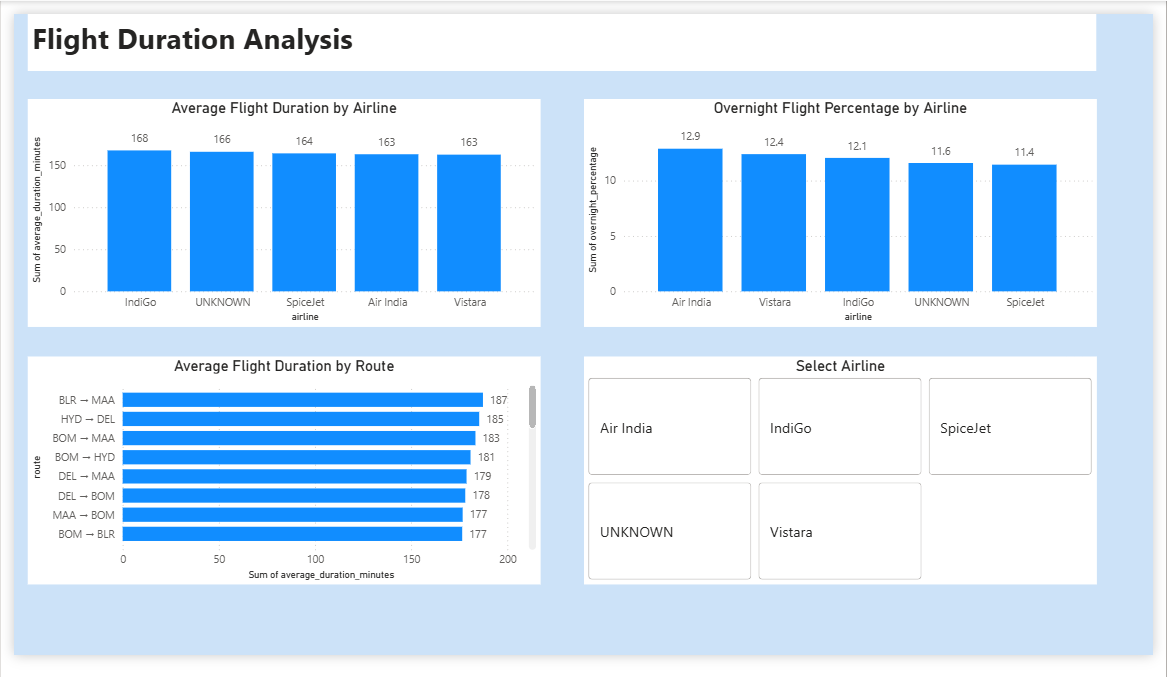

The dashboard page shown, as its layout file describes it:
{"tool":"powerbi","page":{"name":"Duration Analysis","canvas":[1280,720],"ordinal":1},"visuals":[{"type":"clusteredColumnChart","title":"Average Flight Duration by Airline","fields":{"Category":["ASG_airline_performance.airline"],"Y":["Sum(ASG_airline_performance.average_duration_minutes)"]},"box":[16,96,576,256],"z":0},{"type":"clusteredBarChart","title":"Average Flight Duration by Route","fields":{"Category":["ASG_route_performance.route"],"Y":["Sum(ASG_route_performance.average_duration_minutes)"]},"box":[16,384,576,256],"z":1000},{"type":"clusteredColumnChart","title":"Overnight Flight Percentage by Airline","fields":{"Category":["ASG_airline_performance.airline"],"Y":["Sum(ASG_airline_performance.overnight_percentage)"]},"box":[640,96,576,256],"z":2000},{"type":"advancedSlicerVisual","title":"Select Airline","fields":{"Values":["ASG_airline_performance.airline"]},"box":[640,384,576,256],"z":3000},{"type":"textbox","box":[16,0,1200,64],"z":4000}]}

Visuals, with their boxes on the page's 1280x720 design canvas (x1, y1, x2, y2). These are canvas units, not pixel positions in the 1167x677 screenshot, which may show the page scaled, cropped or inside an application window:
"Average Flight Duration by Airline" clusteredColumnChart: [16, 96, 592, 352]
"Average Flight Duration by Route" clusteredBarChart: [16, 384, 592, 640]
"Overnight Flight Percentage by Airline" clusteredColumnChart: [640, 96, 1216, 352]
"Select Airline" advancedSlicerVisual: [640, 384, 1216, 640]
textbox: [16, 0, 1216, 64]
